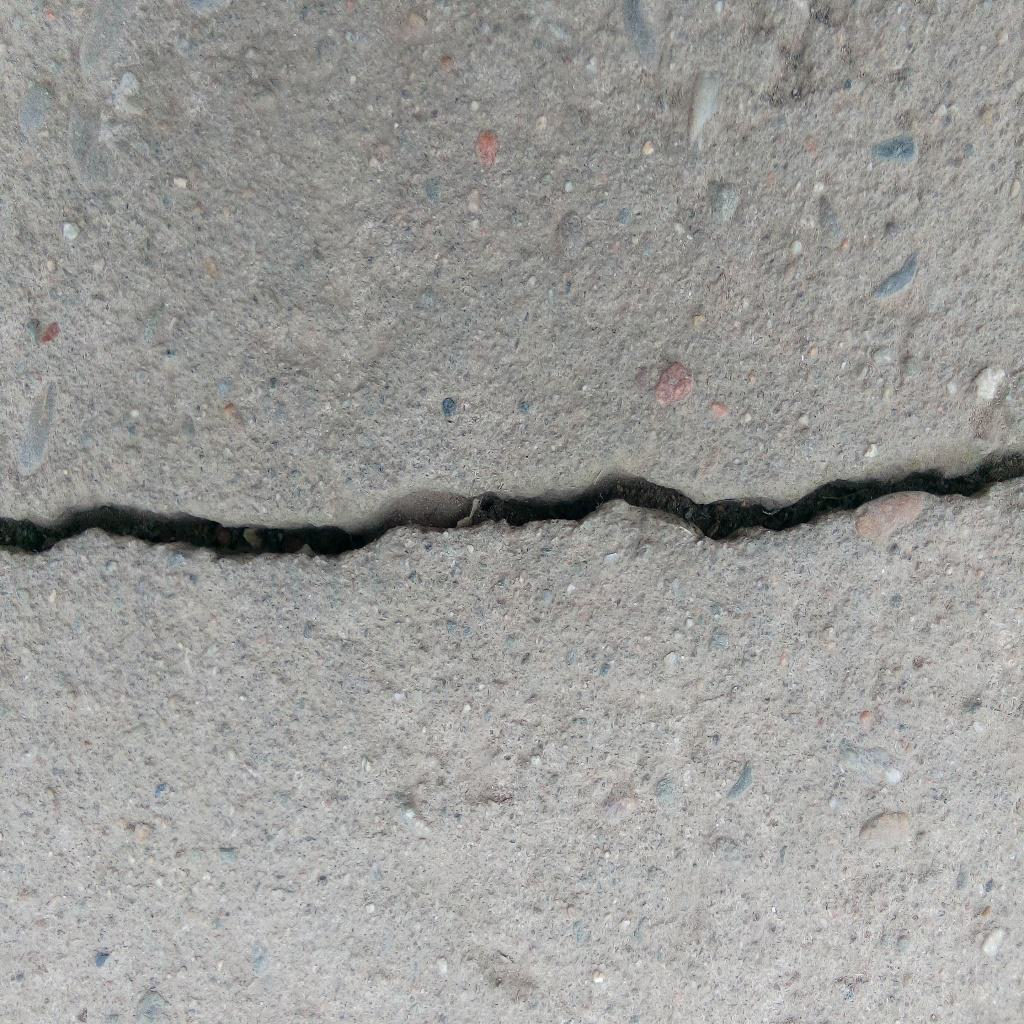Crack: (1, 446, 1024, 565)
